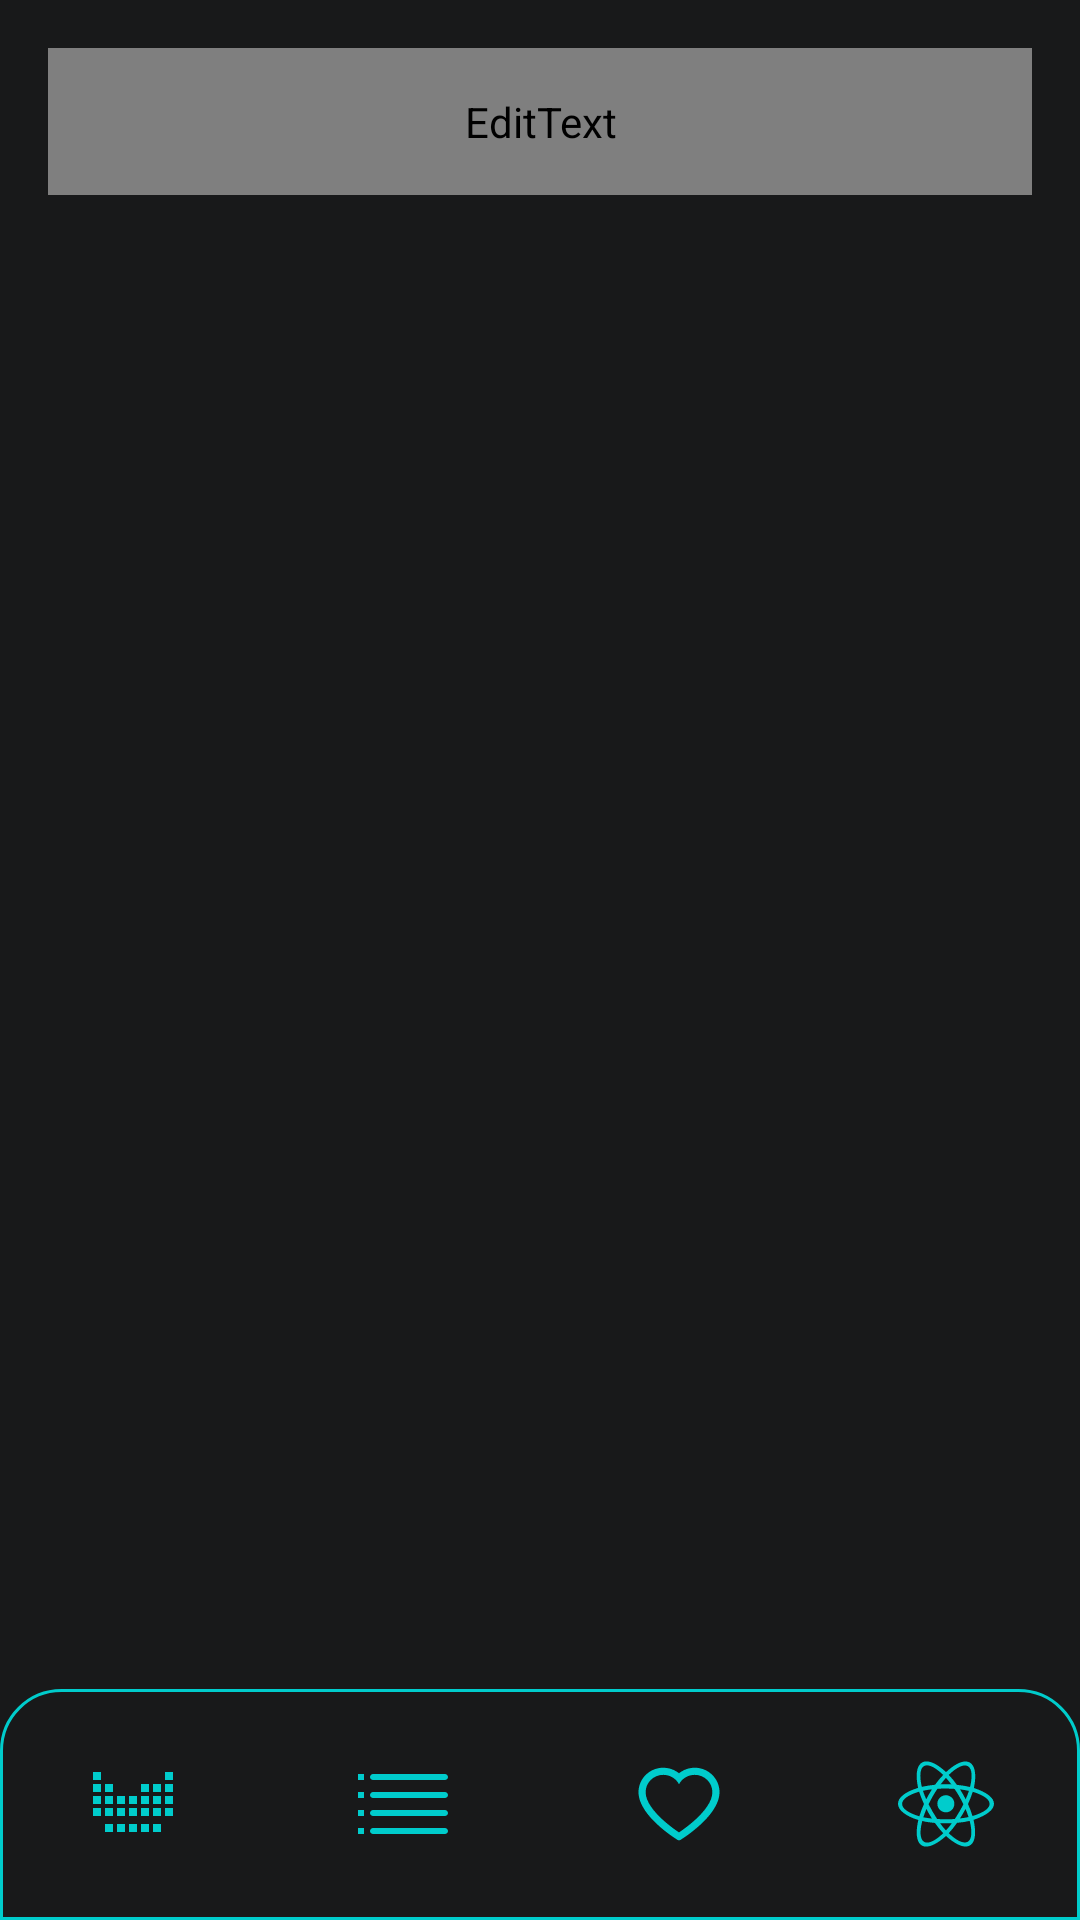

Named icons in this screenshot (1080*1920) and their bounding boxes, [x1,y1,x2,y2]:
atomo menu: [898,1761,994,1847]
favoritos menu: [638,1767,720,1841]
listas menu: [358,1774,448,1834]
tabela periodica menu: [93,1772,173,1832]
